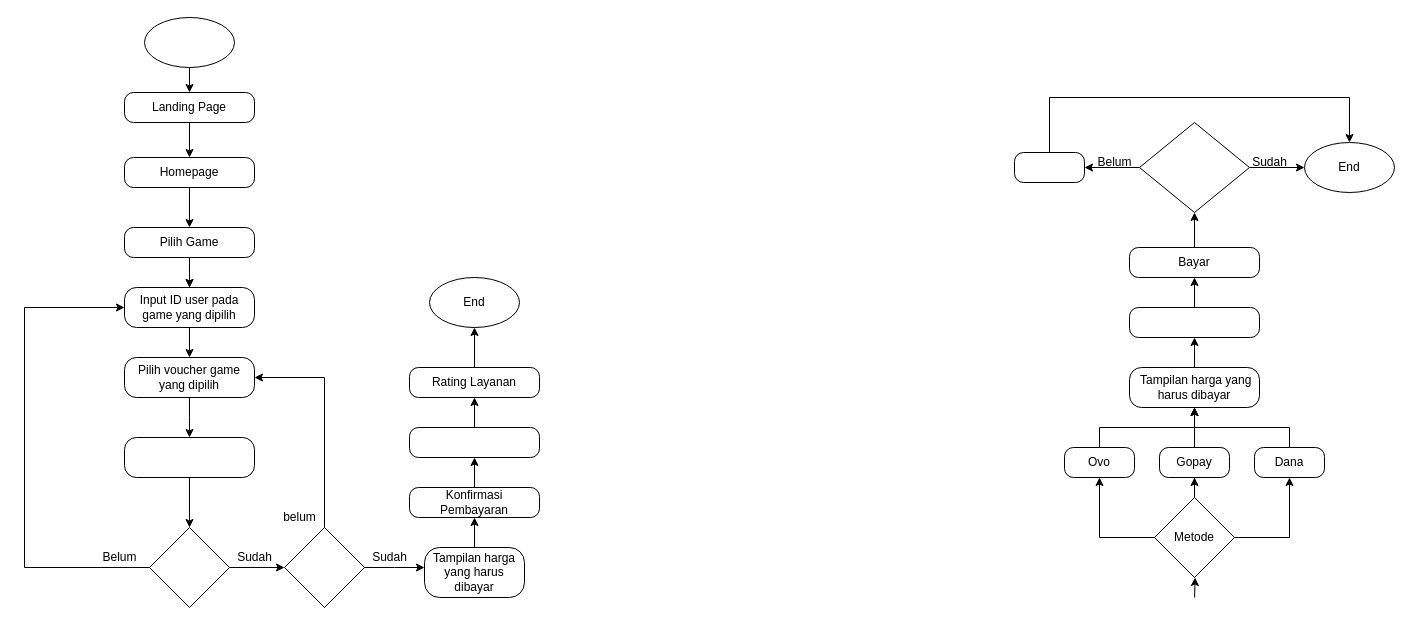
Image size: 1412x625. Some labels were removed from this diagram. Here are the shapes that lost their labels. From the top down, the centre of each, then its label:
the point at 189,42: Start
the point at 1049,167: Batal
the point at 1194,167: Sudah DIbayar dalam 5 menit?
the point at 1194,322: Input nomor pembeli
the point at 189,457: Konfirmasi Pembelian
the point at 474,442: Pembayaran Berhasil
the point at 189,567: ID sudah diisi?
the point at 324,567: Voucher sudah dipilih?
